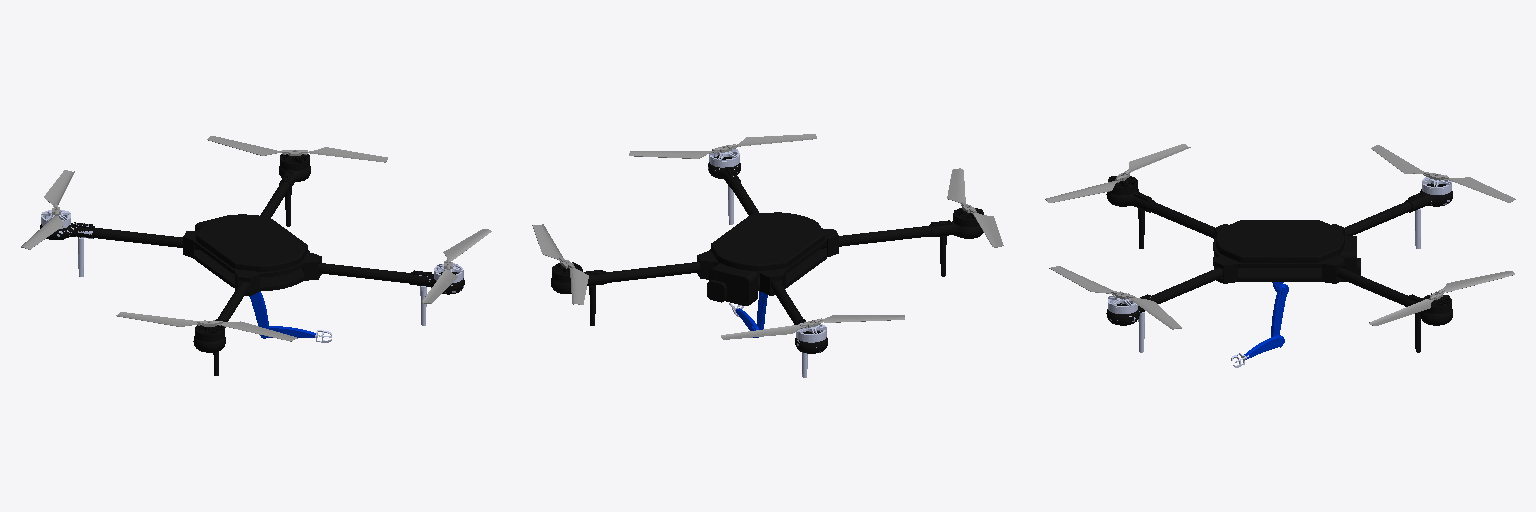
URDF robot description (drone_gripper_1):
<?xml version="1.0" encoding="utf-8"?>
<!-- This URDF was automatically created by SolidWorks to URDF Exporter! Originally created by [author] ([email redacted]) 
     Commit Version: 1.6.0-4-g7f85cfe  Build Version: 1.6.7995.38578
     For more information, please see http://wiki.ros.org/sw_urdf_exporter -->
<robot
  name="drone_gripper_1">
  <link
    name="base">
    <inertial>
      <origin
        xyz="-0.00183735196086752 0.0234860109577308 0.0214712215526119"
        rpy="0 0 0" />
      <mass
        value="0.331177751469564" />
      <inertia
        ixx="0.000408675697067768"
        ixy="-4.41201756371136E-07"
        ixz="2.22245968701136E-07"
        iyy="0.000256391373319889"
        iyz="1.21802729366082E-06"
        izz="0.000641766877160111" />
    </inertial>
    <visual>
      <origin
        xyz="0 0 0"
        rpy="0 0 0" />
      <geometry>
        <mesh
          filename="package://drone_gripper_1/meshes/base.STL" />
      </geometry>
      <material
        name="">
        <color
          rgba="0.0980392156862745 0.0980392156862745 0.0980392156862745 1" />
      </material>
    </visual>
    <collision>
      <origin
        xyz="0 0 0"
        rpy="0 0 0" />
      <geometry>
        <mesh
          filename="package://drone_gripper_1/meshes/base.STL" />
      </geometry>
    </collision>
  </link>
  <link
    name="arm_base">
    <inertial>
      <origin
        xyz="0.000214188029419162 0.000193119000818306 -0.00422884963023153"
        rpy="0 0 0" />
      <mass
        value="0.0169902466324884" />
      <inertia
        ixx="3.35386503243666E-06"
        ixy="-3.08286405659295E-08"
        ixz="-4.95327338127143E-08"
        iyy="3.36424959357735E-06"
        iyz="-4.78293502712381E-08"
        izz="5.21656768832029E-06" />
    </inertial>
    <visual>
      <origin
        xyz="0 0 0"
        rpy="0 0 0" />
      <geometry>
        <mesh
          filename="package://drone_gripper_1/meshes/arm_base.STL" />
      </geometry>
      <material
        name="">
        <color
          rgba="0.00784313725490196 0.23921568627451 0.823529411764706 1" />
      </material>
    </visual>
    <collision>
      <origin
        xyz="0 0 0"
        rpy="0 0 0" />
      <geometry>
        <mesh
          filename="package://drone_gripper_1/meshes/arm_base.STL" />
      </geometry>
    </collision>
  </link>
  <joint
    name="joint0"
    type="continuous">
    <origin
      xyz="-0.00190278280219599 0.0137058612241111 0"
      rpy="3.14159265358978 0 0" />
    <parent
      link="base" />
    <child
      link="arm_base" />
    <axis
      xyz="0 0 1" />
  </joint>
  <link
    name="arm_1">
    <inertial>
      <origin
        xyz="0.0257568296563545 -0.00126299965375996 0.00441041989706169"
        rpy="0 0 0" />
      <mass
        value="0.00491659603305015" />
      <inertia
        ixx="8.51863077553168E-08"
        ixy="1.91099720889399E-08"
        ixz="2.05299202775821E-08"
        iyy="1.93031929844389E-06"
        iyz="-1.28512427911382E-09"
        izz="1.98816626328696E-06" />
    </inertial>
    <visual>
      <origin
        xyz="0 0 0"
        rpy="0 0 0" />
      <geometry>
        <mesh
          filename="package://drone_gripper_1/meshes/arm_1.STL" />
      </geometry>
      <material
        name="">
        <color
          rgba="0.00784313725490196 0.23921568627451 0.823529411764706 1" />
      </material>
    </visual>
    <collision>
      <origin
        xyz="0 0 0"
        rpy="0 0 0" />
      <geometry>
        <mesh
          filename="package://drone_gripper_1/meshes/arm_1.STL" />
      </geometry>
    </collision>
  </link>
  <joint
    name="joint1"
    type="continuous">
    <origin
      xyz="0 0 0.02536318742"
      rpy="1.57079632679496 -1.33772141358135 0.692220818401688" />
    <parent
      link="arm_base" />
    <child
      link="arm_1" />
    <axis
      xyz="-0.00241346964996986 0.0101667205581756 -0.999945404988363" />
  </joint>
  <link
    name="arm_2">
    <inertial>
      <origin
        xyz="-0.0201537546347147 -0.000636375774419107 -0.0186190402341607"
        rpy="0 0 0" />
      <mass
        value="0.00392544916661393" />
      <inertia
        ixx="6.26921919661817E-08"
        ixy="-3.46838351753242E-08"
        ixz="-9.24440130601162E-08"
        iyy="1.29047395692567E-06"
        iyz="-2.14033813486207E-09"
        izz="1.31731826590204E-06" />
    </inertial>
    <visual>
      <origin
        xyz="0 0 0"
        rpy="0 0 0" />
      <geometry>
        <mesh
          filename="package://drone_gripper_1/meshes/arm_2.STL" />
      </geometry>
      <material
        name="">
        <color
          rgba="0.00784313725490196 0.23921568627451 0.823529411764706 1" />
      </material>
    </visual>
    <collision>
      <origin
        xyz="0 0 0"
        rpy="0 0 0" />
      <geometry>
        <mesh
          filename="package://drone_gripper_1/meshes/arm_2.STL" />
      </geometry>
    </collision>
  </link>
  <joint
    name="joint2"
    type="continuous">
    <origin
      xyz="0.0587231634536141 0.000148030136126555 -0.00726018904940746"
      rpy="-3.14159265358979 -0.0931773449956951 1.80387124000846" />
    <parent
      link="arm_1" />
    <child
      link="arm_2" />
    <axis
      xyz="-0.0826335630946453 0 0.996579998921453" />
  </joint>
  <link
    name="grip_base">
    <inertial>
      <origin
        xyz="0.00203227581194931 -0.0755497719879831 -0.0124028769093804"
        rpy="0 0 0" />
      <mass
        value="0.000106253766819768" />
      <inertia
        ixx="1.88428826016347E-09"
        ixy="1.56816965151288E-23"
        ixz="-8.84049279666048E-24"
        iyy="2.91385335431472E-09"
        iyz="-3.31934522017046E-12"
        izz="1.8848621371562E-09" />
    </inertial>
    <visual>
      <origin
        xyz="0 0 0"
        rpy="0 0 0" />
      <geometry>
        <mesh
          filename="package://drone_gripper_1/meshes/grip_base.STL" />
      </geometry>
      <material
        name="">
        <color
          rgba="0.792156862745098 0.819607843137255 0.933333333333333 1" />
      </material>
    </visual>
    <collision>
      <origin
        xyz="0 0 0"
        rpy="0 0 0" />
      <geometry>
        <mesh
          filename="package://drone_gripper_1/meshes/grip_base.STL" />
      </geometry>
    </collision>
  </link>
  <joint
    name="grip_base_j"
    type="fixed">
    <origin
      xyz="0.0140365794953349 0.00918773237832539 -0.00598013056319967"
      rpy="0.0979171243878261 -0.563754204668345 -1.61877069975468" />
    <parent
      link="arm_2" />
    <child
      link="grip_base" />
    <axis
      xyz="0 0 0" />
  </joint>
  <link
    name="grip_3">
    <inertial>
      <origin
        xyz="0.00218834584242978 -0.00450039151208766 -0.000600000000000003"
        rpy="0 0 0" />
      <mass
        value="4.72948810577953E-05" />
      <inertia
        ixx="3.88760140565519E-10"
        ixy="2.24908598889265E-10"
        ixz="3.6189151799195E-25"
        iyy="2.74266315667245E-10"
        iyz="-2.32644547280539E-25"
        izz="6.4161336432179E-10" />
    </inertial>
    <visual>
      <origin
        xyz="0 0 0"
        rpy="0 0 0" />
      <geometry>
        <mesh
          filename="package://drone_gripper_1/meshes/grip_3.STL" />
      </geometry>
      <material
        name="">
        <color
          rgba="0.792156862745098 0.819607843137255 0.933333333333333 1" />
      </material>
    </visual>
    <collision>
      <origin
        xyz="0 0 0"
        rpy="0 0 0" />
      <geometry>
        <mesh
          filename="package://drone_gripper_1/meshes/grip_3.STL" />
      </geometry>
    </collision>
  </link>
  <joint
    name="grip_j_3"
    type="continuous">
    <origin
      xyz="0.00263227581194946 -0.0812803871563409 -0.0196242766751848"
      rpy="-1.5707963267949 0.785718928489839 -1.5707963267949" />
    <parent
      link="grip_base" />
    <child
      link="grip_3" />
    <axis
      xyz="0 0 -1" />
  </joint>
  <link
    name="grip_2">
    <inertial>
      <origin
        xyz="-0.00442200197120168 -0.00234270780398207 -0.000600000000000003"
        rpy="0 0 0" />
      <mass
        value="4.72948810577953E-05" />
      <inertia
        ixx="2.89953474986153E-10"
        ixy="-2.28328433969679E-10"
        ixz="-9.04728794979874E-26"
        iyy="3.73072981246611E-10"
        iyz="-2.19719850209398E-25"
        izz="6.4161336432179E-10" />
    </inertial>
    <visual>
      <origin
        xyz="0 0 0"
        rpy="0 0 0" />
      <geometry>
        <mesh
          filename="package://drone_gripper_1/meshes/grip_2.STL" />
      </geometry>
      <material
        name="">
        <color
          rgba="0.792156862745098 0.819607843137255 0.933333333333333 1" />
      </material>
    </visual>
    <collision>
      <origin
        xyz="0 0 0"
        rpy="0 0 0" />
      <geometry>
        <mesh
          filename="package://drone_gripper_1/meshes/grip_2.STL" />
      </geometry>
    </collision>
  </link>
  <joint
    name="grip_2_j"
    type="continuous">
    <origin
      xyz="0.00796765871918628 -0.081280387156332 -0.00830466143292058"
      rpy="-0.395095332965627 -0.353077010917274 0.878515780434203" />
    <parent
      link="grip_base" />
    <child
      link="grip_2" />
    <axis
      xyz="0 0 -1" />
  </joint>
  <link
    name="grip_1">
    <inertial>
      <origin
        xyz="-0.001147793239485 -0.00487082662055863 -0.000600000000000009"
        rpy="0 0 0" />
      <mass
        value="4.72948810577952E-05" />
      <inertia
        ixx="5.63342500223771E-10"
        ixy="-1.07831087098443E-11"
        ixz="-4.8467614016779E-27"
        iyy="9.96839560089897E-11"
        iyz="7.32062920045099E-28"
        izz="6.41613364321787E-10" />
    </inertial>
    <visual>
      <origin
        xyz="0 0 0"
        rpy="0 0 0" />
      <geometry>
        <mesh
          filename="package://drone_gripper_1/meshes/grip_1.STL" />
      </geometry>
      <material
        name="">
        <color
          rgba="0.792156862745098 0.819607843137255 0.933333333333333 1" />
      </material>
    </visual>
    <collision>
      <origin
        xyz="0 0 0"
        rpy="0 0 0" />
      <geometry>
        <mesh
          filename="package://drone_gripper_1/meshes/grip_1.STL" />
      </geometry>
    </collision>
  </link>
  <joint
    name="grip_j_1"
    type="continuous">
    <origin
      xyz="-0.00450310709531526 -0.0812803871563425 -0.00934389191744596"
      rpy="3.11559761188849 -0.523013103786022 -3.08958498343711" />
    <parent
      link="grip_base" />
    <child
      link="grip_1" />
    <axis
      xyz="0 0 -1" />
  </joint>
  <link
    name="motor_4">
    <inertial>
      <origin
        xyz="0.000695621771873373 0.000721165330689619 -0.0219385365182269"
        rpy="0 0 0" />
      <mass
        value="0.0182263997790312" />
      <inertia
        ixx="4.01214621124044E-06"
        ixy="4.95663829251268E-07"
        ixz="2.74819369639093E-08"
        iyy="4.01214903765658E-06"
        iyz="2.74974509955742E-08"
        izz="2.15763150234275E-06" />
    </inertial>
    <visual>
      <origin
        xyz="0 0 0"
        rpy="0 0 0" />
      <geometry>
        <mesh
          filename="package://drone_gripper_1/meshes/motor_4.STL" />
      </geometry>
      <material
        name="">
        <color
          rgba="0.0980392156862745 0.0980392156862745 0.0980392156862745 1" />
      </material>
    </visual>
    <collision>
      <origin
        xyz="0 0 0"
        rpy="0 0 0" />
      <geometry>
        <mesh
          filename="package://drone_gripper_1/meshes/motor_4.STL" />
      </geometry>
    </collision>
  </link>
  <joint
    name="motor_j_4"
    type="continuous">
    <origin
      xyz="-0.1424417912 -0.145260438439791 0.01897384868937"
      rpy="-1.5707963267949 0.785398163397448 -0.78539816339745" />
    <parent
      link="base" />
    <child
      link="motor_4" />
    <axis
      xyz="0 0 -1" />
    <limit
      lower="0"
      upper="0"
      effort="0"
      velocity="0" />
  </joint>
  <link
    name="prop_4">
    <inertial>
      <origin
        xyz="-0.00260497417230737 -0.00326880962891066 0.00531815136110944"
        rpy="0 0 0" />
      <mass
        value="0.0022878451385303" />
      <inertia
        ixx="7.32642478917712E-07"
        ixy="5.10575258280001E-07"
        ixz="4.38931379045592E-09"
        iyy="4.56336123212192E-07"
        iyz="-3.20330300820537E-09"
        izz="1.18584452926182E-06" />
    </inertial>
    <visual>
      <origin
        xyz="0 0 0"
        rpy="0 0 0" />
      <geometry>
        <mesh
          filename="package://drone_gripper_1/meshes/prop_4.STL" />
      </geometry>
      <material
        name="">
        <color
          rgba="0.627450980392157 0.627450980392157 0.627450980392157 1" />
      </material>
    </visual>
    <collision>
      <origin
        xyz="0 0 0"
        rpy="0 0 0" />
      <geometry>
        <mesh
          filename="package://drone_gripper_1/meshes/prop_4.STL" />
      </geometry>
    </collision>
  </link>
  <joint
    name="prop_4_j"
    type="continuous">
    <origin
      xyz="-0.0125428685755495 -0.0115637353057587 -0.0282970755018481"
      rpy="1.5707963267949 -0.785398163397449 -0.785398163397449" />
    <parent
      link="motor_4" />
    <child
      link="prop_4" />
    <axis
      xyz="0 0 1" />
  </joint>
  <link
    name="motor_1">
    <inertial>
      <origin
        xyz="0.00134059309408734 -7.61956493547482E-05 0.021406736722959"
        rpy="0 0 0" />
      <mass
        value="0.0182263660095419" />
      <inertia
        ixx="4.01215712789077E-06"
        ixy="-4.95651274729463E-07"
        ixz="2.7494396208725E-08"
        iyy="4.01214429797782E-06"
        iyz="-2.74845085230169E-08"
        izz="2.15760711690532E-06" />
    </inertial>
    <visual>
      <origin
        xyz="0 0 0"
        rpy="0 0 0" />
      <geometry>
        <mesh
          filename="package://drone_gripper_1/meshes/motor_1.STL" />
      </geometry>
      <material
        name="">
        <color
          rgba="0.792156862745098 0.819607843137255 0.933333333333333 1" />
      </material>
    </visual>
    <collision>
      <origin
        xyz="0 0 0"
        rpy="0 0 0" />
      <geometry>
        <mesh
          filename="package://drone_gripper_1/meshes/motor_1.STL" />
      </geometry>
    </collision>
  </link>
  <joint
    name="motor_1_j"
    type="continuous">
    <origin
      xyz="-0.1737417912 0.202630085172958 0.01897384868937"
      rpy="1.5707963267949 0.785398163397448 0.785398163397452" />
    <parent
      link="base" />
    <child
      link="motor_1" />
    <axis
      xyz="0 0 1" />
    <limit
      lower="0"
      upper="0"
      effort="0"
      velocity="0" />
  </joint>
  <link
    name="prop_1">
    <inertial>
      <origin
        xyz="-0.00274719720603697 0.0030142110768199 0.00531815927213076"
        rpy="0 0 0" />
      <mass
        value="0.00228781223397594" />
      <inertia
        ixx="5.25073921299612E-07"
        ixy="-5.24361151657708E-07"
        ixz="-2.9052284122216E-09"
        iyy="6.63900797272882E-07"
        iyz="-4.5919202135994E-09"
        izz="1.18584064092141E-06" />
    </inertial>
    <visual>
      <origin
        xyz="0 0 0"
        rpy="0 0 0" />
      <geometry>
        <mesh
          filename="package://drone_gripper_1/meshes/prop_1.STL" />
      </geometry>
      <material
        name="">
        <color
          rgba="0.627450980392157 0.627450980392157 0.627450980392157 1" />
      </material>
    </visual>
    <collision>
      <origin
        xyz="0 0 0"
        rpy="0 0 0" />
      <geometry>
        <mesh
          filename="package://drone_gripper_1/meshes/prop_1.STL" />
      </geometry>
    </collision>
  </link>
  <joint
    name="prop_j_1"
    type="continuous">
    <origin
      xyz="-0.011536131372133 0.0125704725091749 0.0149950992460948"
      rpy="-1.5707963267949 -0.785398163397451 0.785398163397449" />
    <parent
      link="motor_1" />
    <child
      link="prop_1" />
    <axis
      xyz="0 0 -1" />
  </joint>
  <link
    name="motor_2">
    <inertial>
      <origin
        xyz="0.000257675071747208 -0.000727971078348082 0.00680045453676498"
        rpy="0 0 0" />
      <mass
        value="0.0182263997790352" />
      <inertia
        ixx="3.51644688274131E-06"
        ixy="-1.41320825098257E-12"
        ixz="1.09651732846124E-11"
        iyy="4.50777452818736E-06"
        iyz="-3.88762985442066E-08"
        izz="2.15763148928618E-06" />
    </inertial>
    <visual>
      <origin
        xyz="0 0 0"
        rpy="0 0 0" />
      <geometry>
        <mesh
          filename="package://drone_gripper_1/meshes/motor_2.STL" />
      </geometry>
      <material
        name="">
        <color
          rgba="0.0980392156862745 0.0980392156862745 0.0980392156862745 1" />
      </material>
    </visual>
    <collision>
      <origin
        xyz="0 0 0"
        rpy="0 0 0" />
      <geometry>
        <mesh
          filename="package://drone_gripper_1/meshes/motor_2.STL" />
      </geometry>
    </collision>
  </link>
  <joint
    name="motor_j_2"
    type="continuous">
    <origin
      xyz="0.158788329048069 0.193121052647772 0.0187"
      rpy="1.5707963267949 0 -0.785398163397449" />
    <parent
      link="base" />
    <child
      link="motor_2" />
    <axis
      xyz="0 0 -1" />
    <limit
      lower="0"
      upper="0"
      effort="0"
      velocity="0" />
  </joint>
  <link
    name="prop_2">
    <inertial>
      <origin
        xyz="5.8195233457306E-05 -0.00360033118201913 0.0123641134712593"
        rpy="0 0 0" />
      <mass
        value="0.00228777713455666" />
      <inertia
        ixx="8.39111206967774E-08"
        ixy="1.38155885773495E-07"
        ixz="5.36887956285332E-09"
        iyy="1.10506281513806E-06"
        iyz="8.3864756592969E-10"
        izz="1.18583982065703E-06" />
    </inertial>
    <visual>
      <origin
        xyz="0 0 0"
        rpy="0 0 0" />
      <geometry>
        <mesh
          filename="package://drone_gripper_1/meshes/prop_2.STL" />
      </geometry>
      <material
        name="">
        <color
          rgba="0.627450980392157 0.627450980392157 0.627450980392157 1" />
      </material>
    </visual>
    <collision>
      <origin
        xyz="0 0 0"
        rpy="0 0 0" />
      <geometry>
        <mesh
          filename="package://drone_gripper_1/meshes/prop_2.STL" />
      </geometry>
    </collision>
  </link>
  <joint
    name="prop_j_2"
    type="continuous">
    <origin
      xyz="0.000522455765777759 0.01027384868937 -0.000110965612503178"
      rpy="1.5707963267949 0 -3.14159265358979" />
    <parent
      link="motor_2" />
    <child
      link="prop_2" />
    <axis
      xyz="0 0 1" />
  </joint>
  <link
    name="motor_3">
    <inertial>
      <origin
        xyz="-0.000340593073787475 -0.00107619562270902 0.0252623107999657"
        rpy="0 0 0" />
      <mass
        value="0.0182263660848712" />
      <inertia
        ixx="4.01213708898894E-06"
        ixy="4.95651290034428E-07"
        ixz="2.74943803524921E-08"
        iyy="4.01212425793855E-06"
        iyz="2.74845291139644E-08"
        izz="2.15760715532736E-06" />
    </inertial>
    <visual>
      <origin
        xyz="0 0 0"
        rpy="0 0 0" />
      <geometry>
        <mesh
          filename="package://drone_gripper_1/meshes/motor_3.STL" />
      </geometry>
      <material
        name="">
        <color
          rgba="0.792156862745098 0.819607843137255 0.933333333333333 1" />
      </material>
    </visual>
    <collision>
      <origin
        xyz="0 0 0"
        rpy="0 0 0" />
      <geometry>
        <mesh
          filename="package://drone_gripper_1/meshes/motor_3.STL" />
      </geometry>
    </collision>
  </link>
  <joint
    name="motor_j_3"
    type="continuous">
    <origin
      xyz="0.135936225596693 -0.14326043844 0.01897384868937"
      rpy="1.5707963267949 -0.78539816339745 0.785398163397448" />
    <parent
      link="base" />
    <child
      link="motor_3" />
    <axis
      xyz="0 0 -1" />
    <limit
      lower="0"
      upper="0"
      effort="0"
      velocity="0" />
  </joint>
  <link
    name="prop_3">
    <inertial>
      <origin
        xyz="-0.000809624120667624 0.00353561422696858 -0.00160999763135484"
        rpy="0 0 0" />
      <mass
        value="0.00228783690268572" />
      <inertia
        ixx="2.20088054153334E-07"
        ixy="-3.73625878341654E-07"
        ixz="-5.40401269205673E-09"
        iyy="9.68885262963571E-07"
        iyz="-5.70137240859949E-10"
        izz="1.18583925774112E-06" />
    </inertial>
    <visual>
      <origin
        xyz="0 0 0"
        rpy="0 0 0" />
      <geometry>
        <mesh
          filename="package://drone_gripper_1/meshes/prop_3.STL" />
      </geometry>
      <material
        name="">
        <color
          rgba="0.627450980392157 0.627450980392157 0.627450980392157 1" />
      </material>
    </visual>
    <collision>
      <origin
        xyz="0 0 0"
        rpy="0 0 0" />
      <geometry>
        <mesh
          filename="package://drone_gripper_1/meshes/prop_3.STL" />
      </geometry>
    </collision>
  </link>
  <joint
    name="prop_j_3"
    type="continuous">
    <origin
      xyz="0.0147617103710676 0.0145890076977606 0.0321247030024744"
      rpy="1.57079632679489 0.239110107523199 -0.78539816339745" />
    <parent
      link="motor_3" />
    <child
      link="prop_3" />
    <axis
      xyz="0 0 1" />
  </joint>
</robot>

--- What the picture shows (computed from the rendered views, not written in the file) ---
3 views of the same robot in one strip: view 1: azimuth 30°, elevation 25°; view 2: azimuth 150°, elevation 25°; view 3: azimuth 270°, elevation 25° (orthographic).
Model drone_gripper_1 with 16 links and 15 joints (14 continuous, 1 fixed), rooted at base, posed all joints at 0.
Visible links, largest first — view 1: base, prop_4, prop_2, prop_1, prop_3, motor_2, motor_1; view 2: base, prop_3, prop_1, prop_2, prop_4, motor_3, motor_4, motor_2, motor_1; view 3: base, prop_3, prop_1, prop_4, prop_2, motor_1, motor_3, motor_4, motor_2.
Link boxes in pixels (bbox=[...]): base: bbox=[40, 160, 464, 352]; prop_4: bbox=[116, 312, 297, 341]; prop_2: bbox=[207, 136, 387, 162]; prop_1: bbox=[21, 170, 74, 249]; prop_3: bbox=[422, 229, 491, 303]; motor_2: bbox=[280, 154, 309, 226]; motor_1: bbox=[41, 210, 92, 276]; base: bbox=[551, 155, 983, 353]; prop_3: bbox=[629, 134, 816, 158]; prop_1: bbox=[721, 315, 904, 339]; prop_2: bbox=[532, 224, 588, 304]; prop_4: bbox=[947, 168, 1003, 247]; motor_3: bbox=[708, 149, 739, 224]; motor_4: bbox=[933, 208, 983, 276]; motor_2: bbox=[552, 262, 595, 325]; motor_1: bbox=[796, 323, 826, 377]; base: bbox=[1106, 183, 1452, 325]; prop_3: bbox=[1049, 266, 1181, 329]; prop_1: bbox=[1371, 145, 1515, 202]; prop_4: bbox=[1045, 144, 1190, 202]; prop_2: bbox=[1369, 271, 1514, 325]; motor_1: bbox=[1415, 175, 1451, 248]; motor_3: bbox=[1108, 295, 1150, 352]; motor_4: bbox=[1108, 176, 1144, 248]; motor_2: bbox=[1406, 293, 1452, 352].
Size in the robot's own frame: 0.498 by 0.538 by 0.135 metres.
16 mesh visuals loaded from 16 distinct referenced files (16 binary STL).